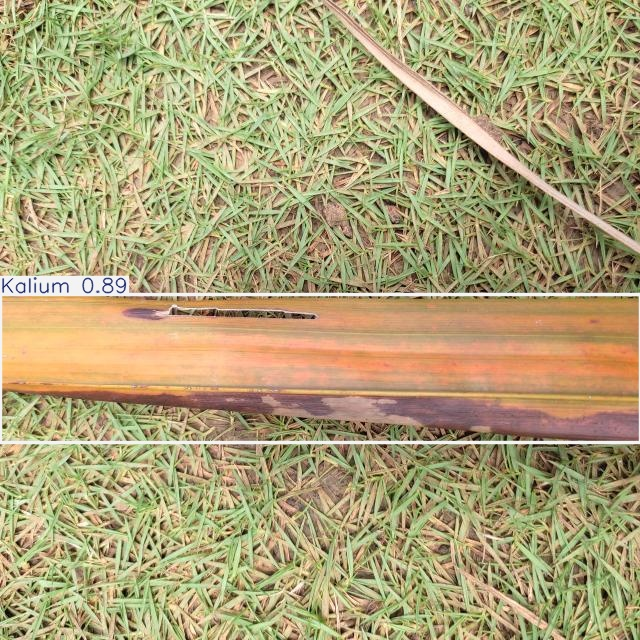Kalium: (0, 294, 640, 442)
